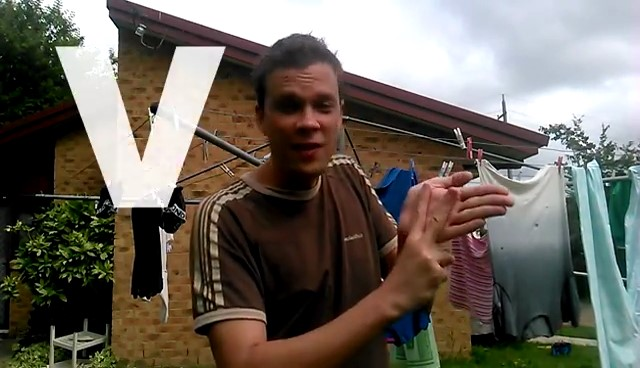V: (372, 163, 530, 322)
